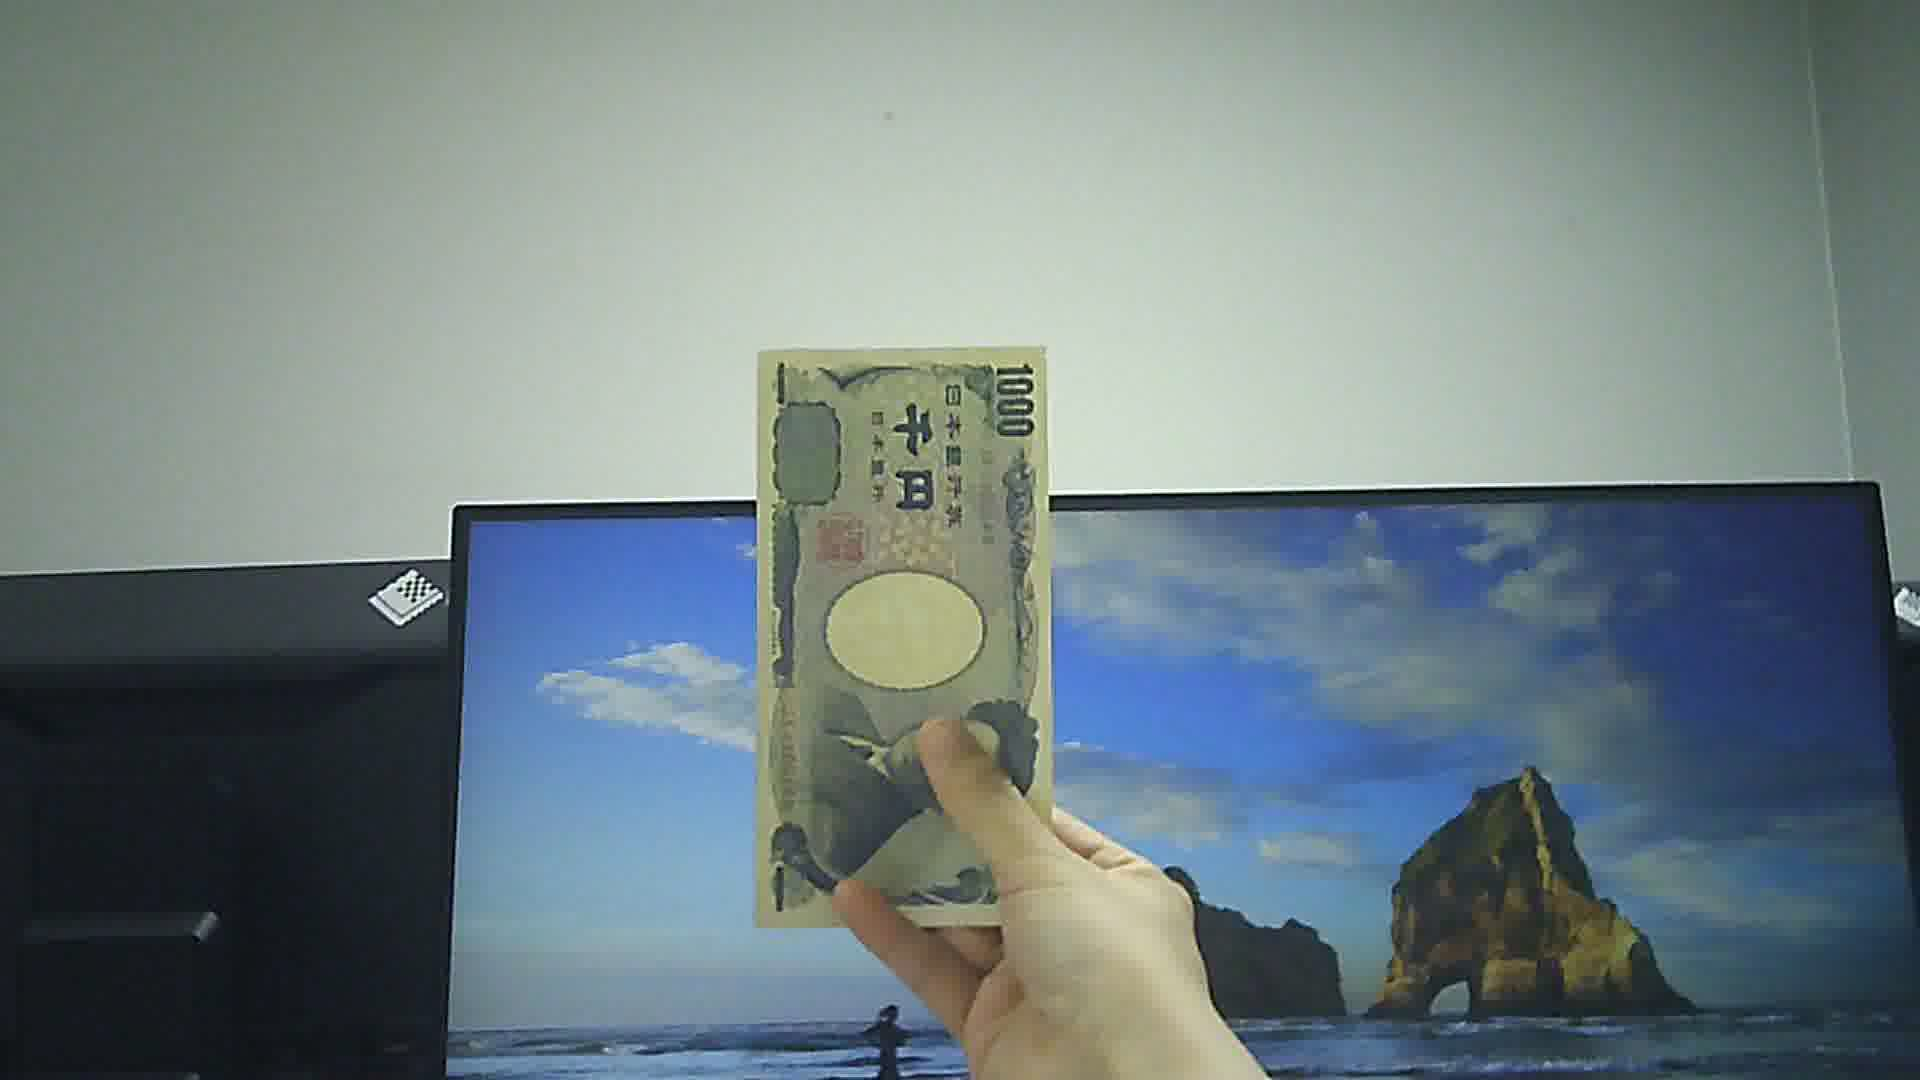1,000 Yen: (750, 336, 1068, 932)
